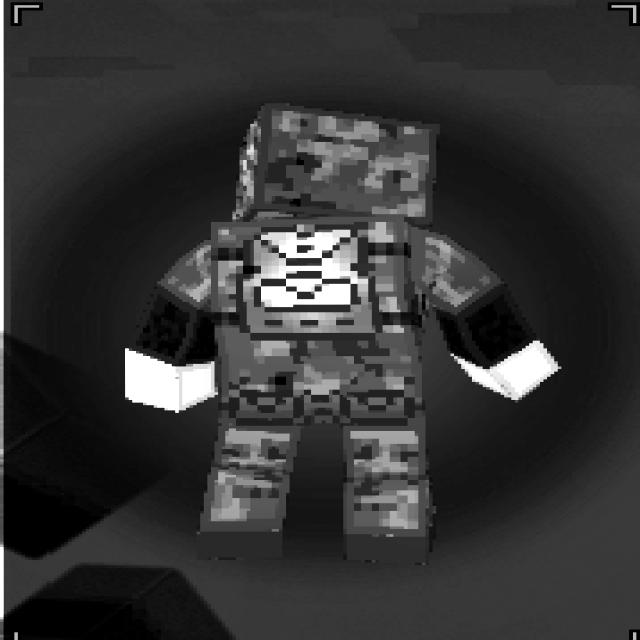Head: (229, 101, 440, 222)
Player: (121, 98, 562, 565)
